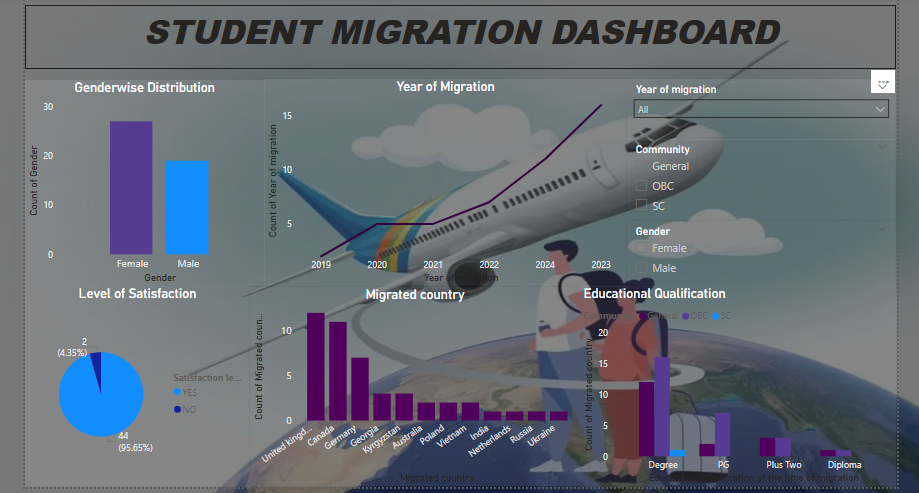

The page's visual inventory and layout, read from the dashboard file:
{"tool":"powerbi","page":{"name":"Page 1","canvas":[1280,720],"ordinal":0},"visuals":[{"type":"columnChart","title":" Genderwise Distribution","fields":{"Category":["Sheet1.Gender"],"Y":["CountNonNull(Sheet1.Gender)"]},"box":[0,121.6,351.8,303.2],"z":0},{"type":"lineChart","title":"Year of Migration","fields":{"Category":["Sheet1.Year of migration"],"Y":["CountNonNull(Sheet1.Year of migration)"]},"box":[351.8,120.1,533.5,304.6],"z":1},{"type":"columnChart","title":"Migrated country","fields":{"Category":["Sheet1.Migrated country"],"Y":["CountNonNull(Sheet1.Migrated country)"]},"box":[330.4,426.2,484.8,293.2],"z":2},{"type":"pieChart","title":"Level of Satisfaction","fields":{"Category":["Sheet1.Satisfaction level with foreign education"],"Y":["CountNonNull(Sheet1.Satisfaction level with foreign education)"]},"box":[0,424.8,330.4,294.6],"z":3},{"type":"clusteredColumnChart","title":"Educational Qualification","fields":{"Category":["Sheet1.Educational qualification at the time of migration"],"Y":["CountNonNull(Sheet1.Migrated country)"],"Series":["Sheet1.Community"]},"box":[815.2,424.8,464.8,294.6],"z":4},{"type":"textbox","box":[0,11.4,1280,94.4],"z":5},{"type":"slicer","fields":{"Values":["Sheet1.Year of migration"]},"box":[885.3,120.1,394.7,88.7],"z":6},{"type":"slicer","fields":{"Values":["Sheet1.Community"]},"box":[885.3,208.8,394.7,120.1],"z":7},{"type":"slicer","fields":{"Values":["Sheet1.Gender"]},"box":[885.3,328.9,394.7,95.8],"z":8}]}

Visuals, with their boxes on the page's 1280x720 design canvas (x1, y1, x2, y2). These are canvas units, not pixel positions in the 919x493 screenshot, which may show the page scaled, cropped or inside an application window:
" Genderwise Distribution" columnChart: Rect(0, 122, 352, 425)
"Year of Migration" lineChart: Rect(352, 120, 885, 425)
"Migrated country" columnChart: Rect(330, 426, 815, 719)
"Level of Satisfaction" pieChart: Rect(0, 425, 330, 719)
"Educational Qualification" clusteredColumnChart: Rect(815, 425, 1280, 719)
textbox: Rect(0, 11, 1280, 106)
slicer - Sheet1.Year of migration: Rect(885, 120, 1280, 209)
slicer - Sheet1.Community: Rect(885, 209, 1280, 329)
slicer - Sheet1.Gender: Rect(885, 329, 1280, 425)
